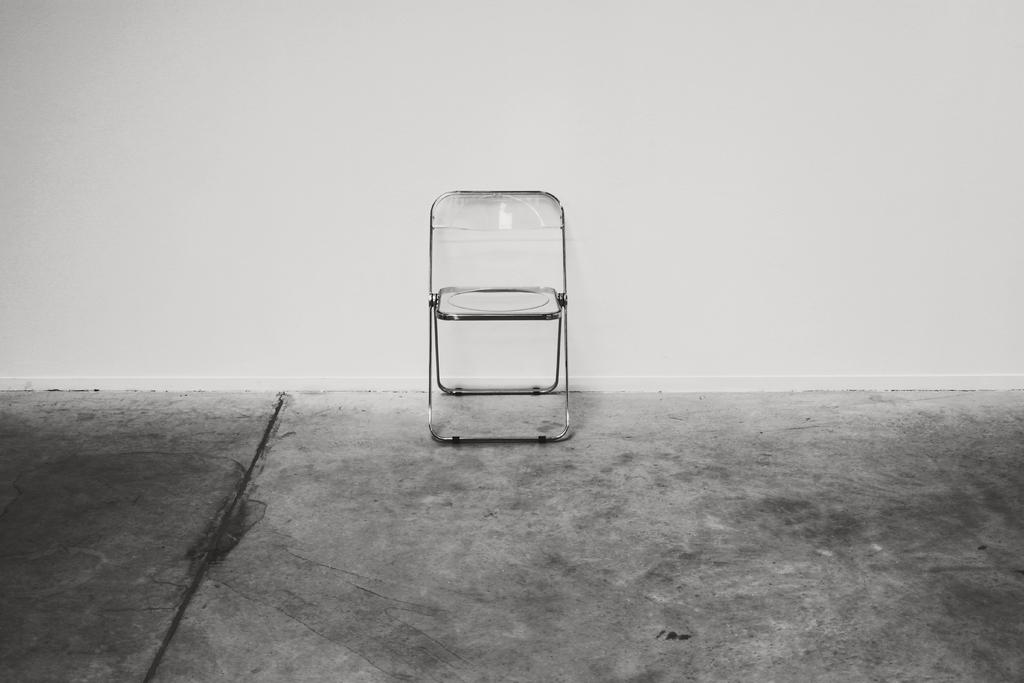Chair: (417, 179, 580, 452)
